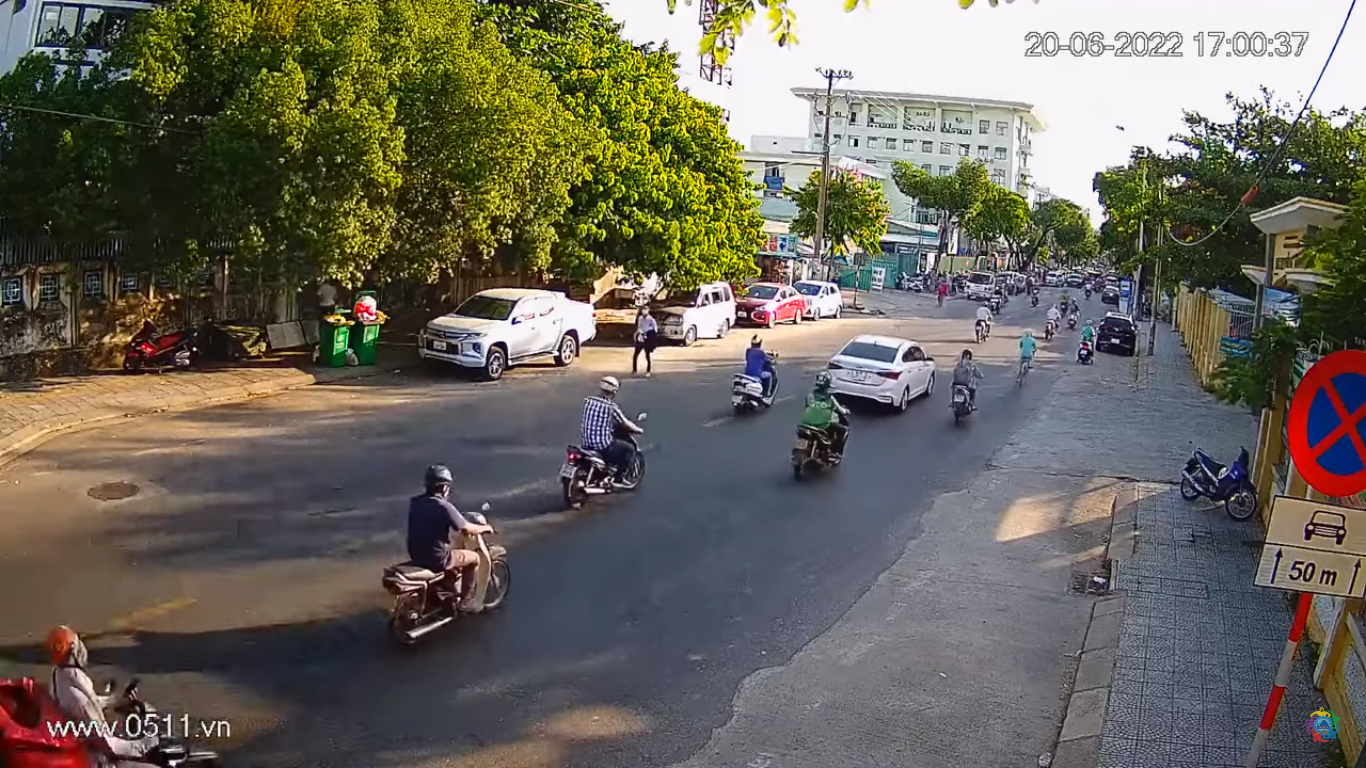car: (815, 332, 944, 413)
